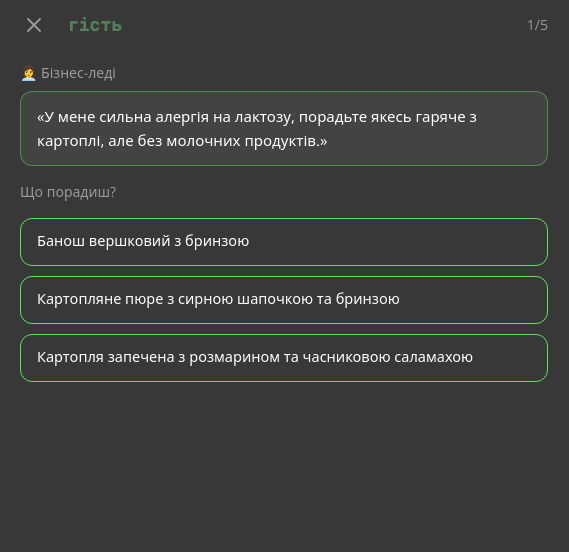
it: guest › shows the situation, explains the choice, and records it
Click the button "Картопля запечена з розмарином та часниковою саламахою". click: click(284, 358)
box: [20,334,548,382]
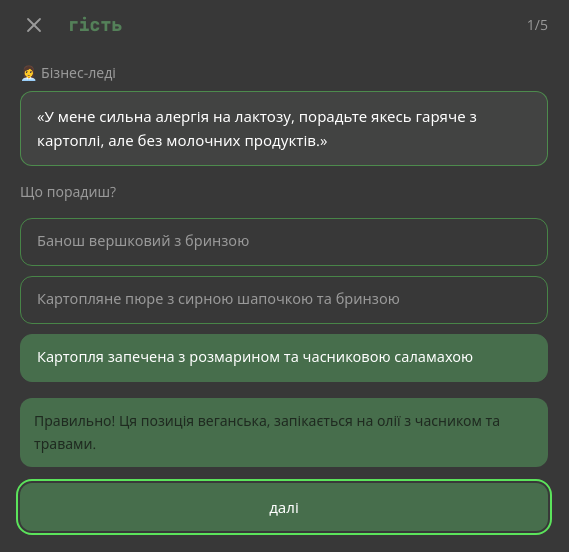
Result: the text "Правильно! Ця позиція веганська, запікається на олії з часником та травами." is shown at [20,398,548,467]
